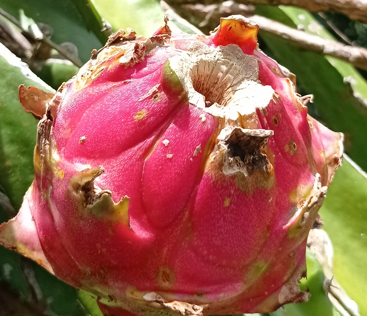Matang: (38, 24, 333, 280)
